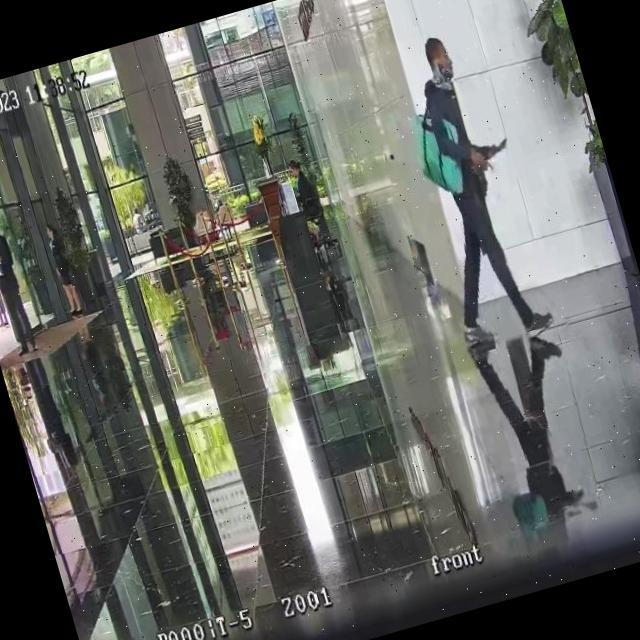person: (382, 24, 558, 354), (0, 213, 40, 358), (286, 154, 332, 245), (43, 219, 85, 318), (0, 247, 10, 328), (128, 203, 150, 233)
